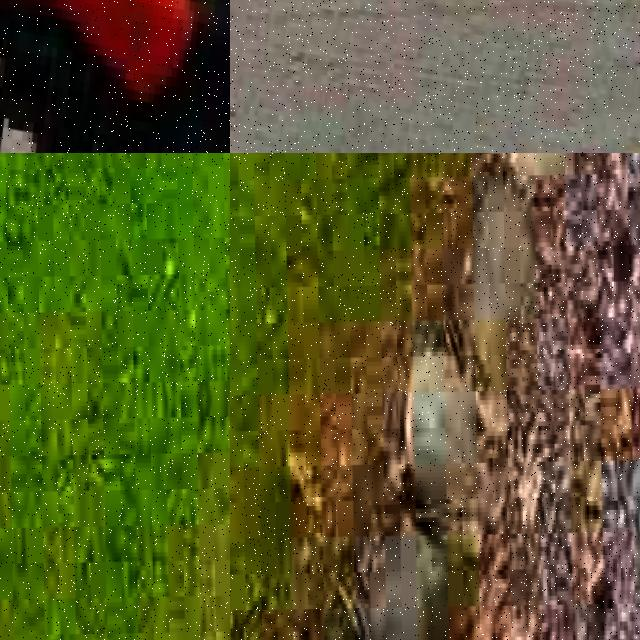drone: (230, 0, 640, 153), (0, 0, 230, 153)
